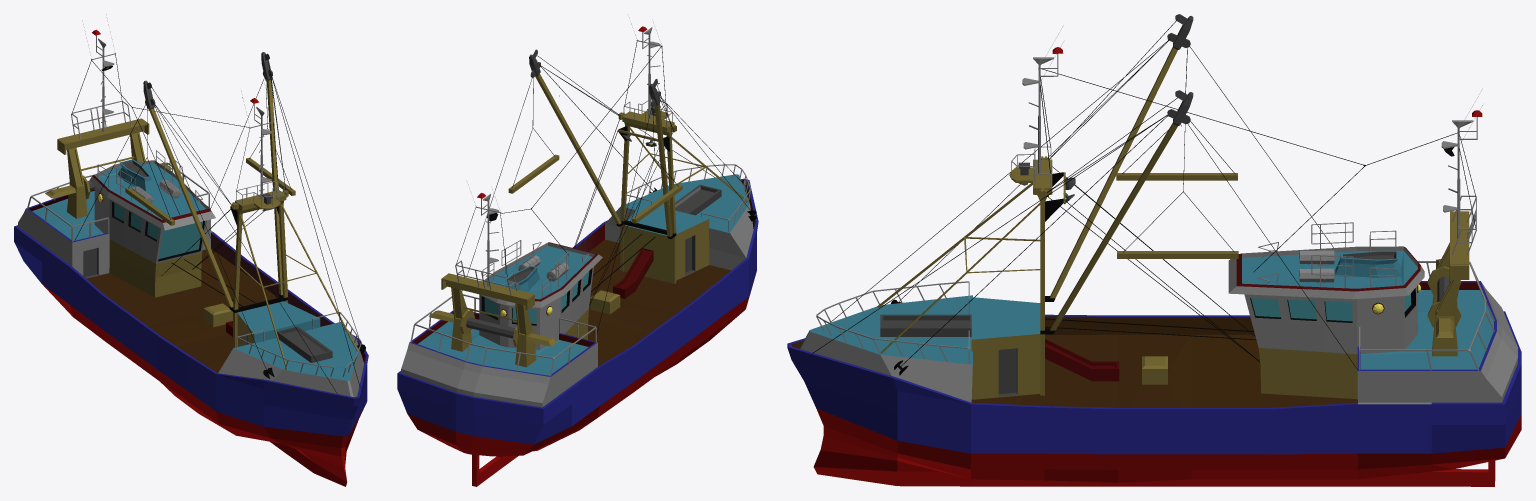
The model's file is BoatLvl4_V1.2.fbx.
3 views of the same model, side by side, from view 1: azimuth 30°, elevation 25°; view 2: azimuth 150°, elevation 25°; view 3: azimuth 270°, elevation 25° (orthographic). The views are drawn at different scales.
Visible parts, largest first — view 1: Coque, Cube, Back net, Cables 1, Cables 2, Front nets, Fence front, Fence rear, Back net antenna, Back net antenna.001, Cabin fence, Back net fence (+1 smaller); view 2: Coque, Cube, Back net, Fence rear, Front nets, Cables 2, Fence front, Cables 1, Cabin fence, Back net antenna, Back net antenna.001, Cables 3 (+2 smaller); view 3: Coque, Cube, Back net, Front nets, Cables 2, Cables 1, Fence front, Cabin fence, Fence rear, Back net antenna, Back net antenna.001, Cables 3.
Part boxes in pixels (bbox=[...]): Coque: bbox=[14, 159, 368, 486]; Cube: bbox=[143, 52, 357, 370]; Back net: bbox=[45, 118, 171, 218]; Cables 1: bbox=[152, 88, 337, 393]; Cables 2: bbox=[192, 59, 360, 387]; Front nets: bbox=[125, 157, 295, 225]; Fence front: bbox=[236, 312, 361, 376]; Fence rear: bbox=[27, 162, 209, 241]; Back net antenna: bbox=[82, 14, 115, 131]; Back net antenna.001: bbox=[241, 84, 274, 199]; Cabin fence: bbox=[97, 150, 202, 214]; Back net fence: bbox=[71, 100, 131, 139]; Coque: bbox=[397, 174, 758, 486]; Cube: bbox=[529, 49, 747, 283]; Back net: bbox=[429, 273, 558, 367]; Fence rear: bbox=[410, 294, 596, 376]; Front nets: bbox=[508, 154, 682, 223]; Cables 2: bbox=[537, 55, 714, 248]; Fence front: bbox=[626, 164, 751, 231]; Cables 1: bbox=[589, 85, 753, 306]; Cabin fence: bbox=[482, 240, 589, 298]; Back net antenna: bbox=[468, 184, 501, 286]; Back net antenna.001: bbox=[629, 17, 662, 118]; Cables 3: bbox=[500, 46, 666, 277]; Coque: bbox=[787, 246, 1521, 486]; Cube: bbox=[877, 14, 1193, 395]; Back net: bbox=[1427, 211, 1469, 356]; Front nets: bbox=[1116, 173, 1238, 258]; Cables 2: bbox=[812, 97, 1259, 366]; Cables 1: bbox=[831, 19, 1255, 336]; Fence front: bbox=[816, 281, 969, 363]; Cabin fence: bbox=[1258, 222, 1396, 288]; Fence rear: bbox=[1359, 261, 1494, 370]; Back net antenna: bbox=[1441, 89, 1482, 238]; Back net antenna.001: bbox=[1022, 25, 1063, 173]; Cables 3: bbox=[1040, 69, 1475, 272].
Size of the model in its own units: 571 by 1283 by 1886.
